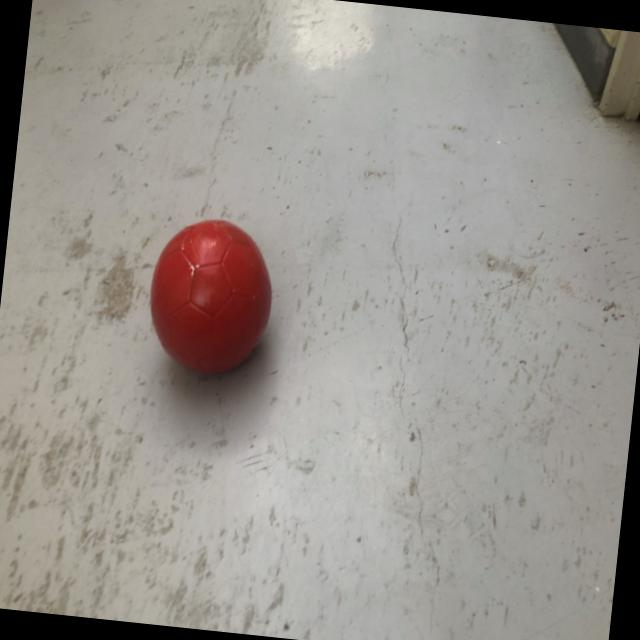red_ball: (143, 214, 278, 376)
